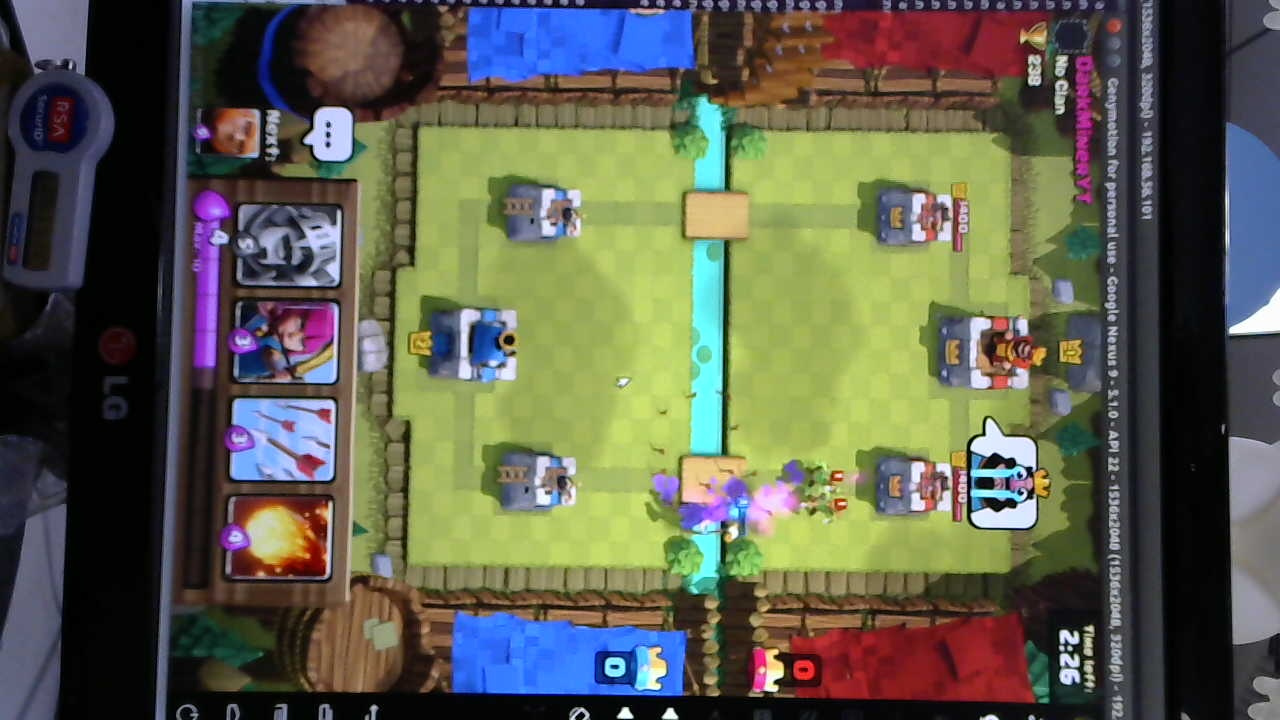arena: (497, 177, 585, 245), (494, 448, 579, 512)
earena: (875, 185, 955, 250), (879, 459, 956, 515)
eking: (949, 315, 1035, 392)
king: (428, 304, 521, 383)
speargoblins: (802, 460, 848, 524)
witch: (672, 500, 740, 542)
